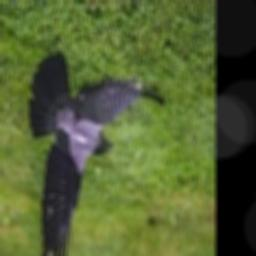Crow: (29, 50, 164, 256)
